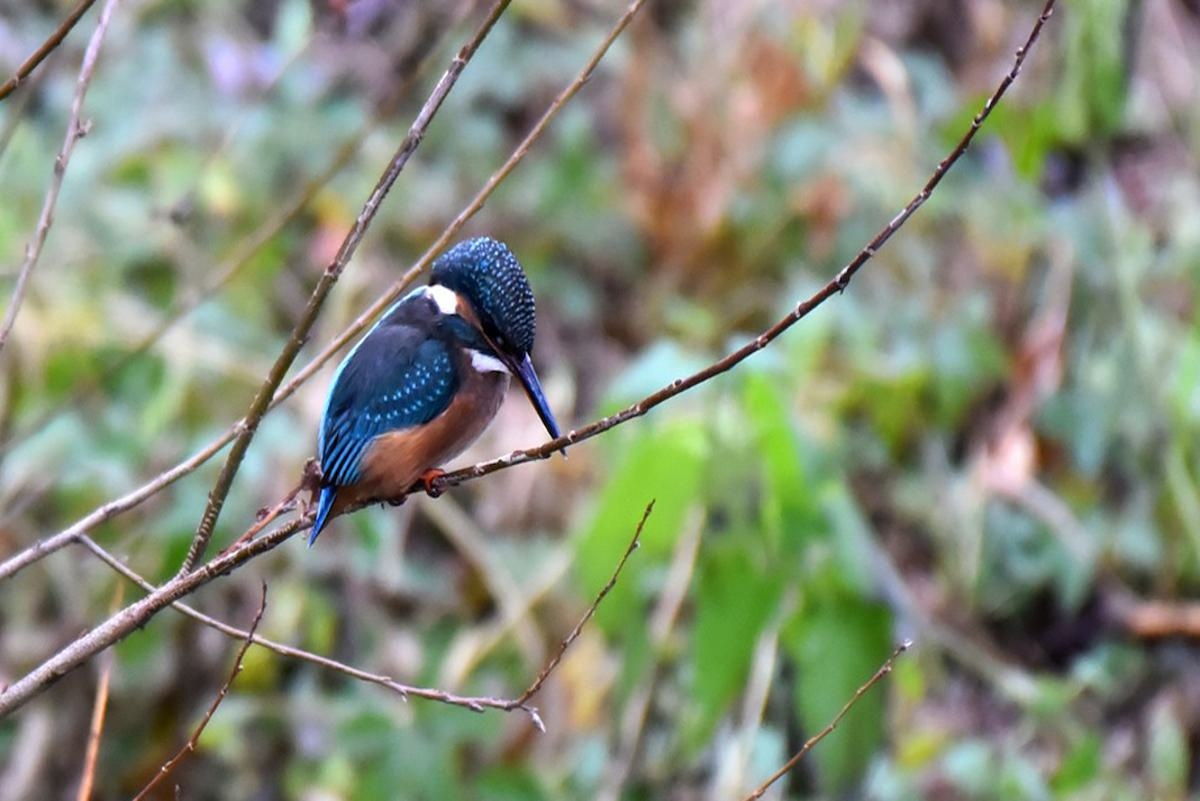kingfisher: (313, 233, 574, 538)
